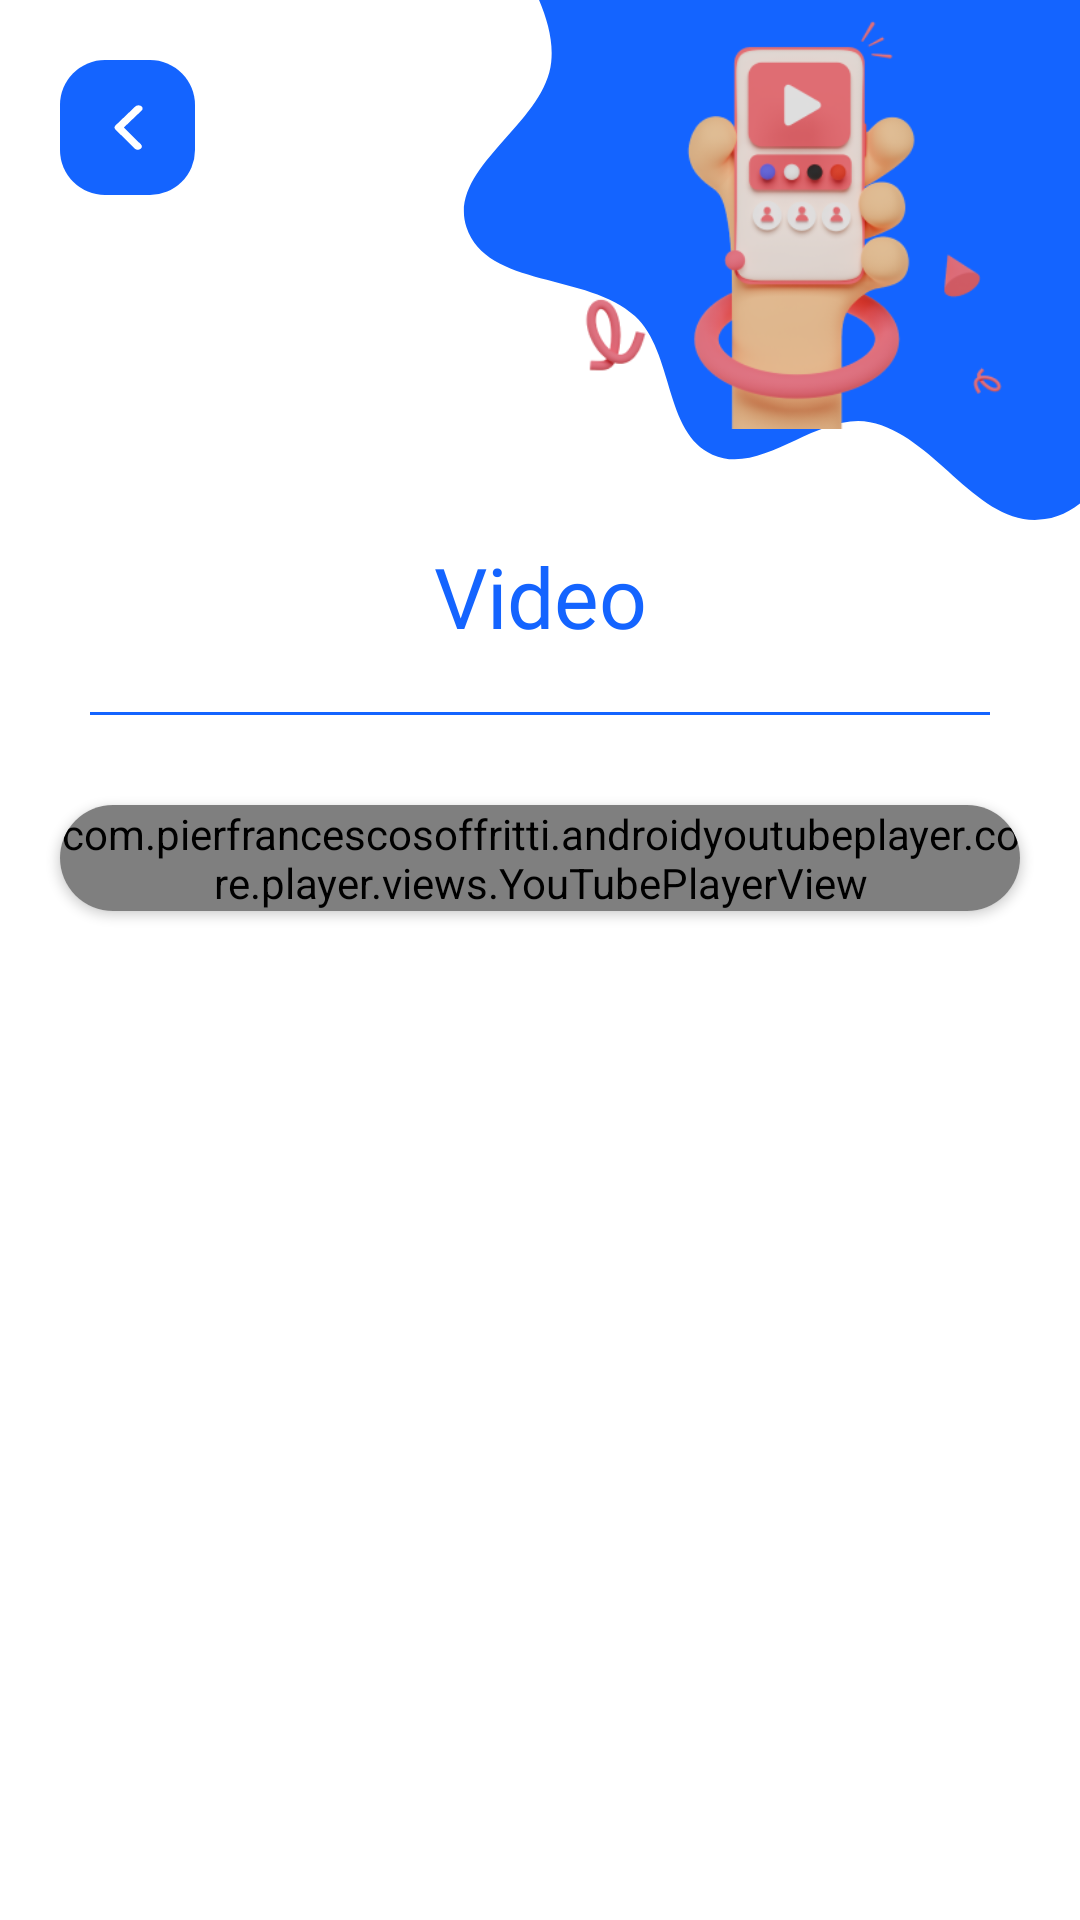

Icon bounding boxes for this 1080x1920 phone screenshot, format detection(x1, y1, x2, y2):
left arrow: detection(60, 60, 195, 195)
